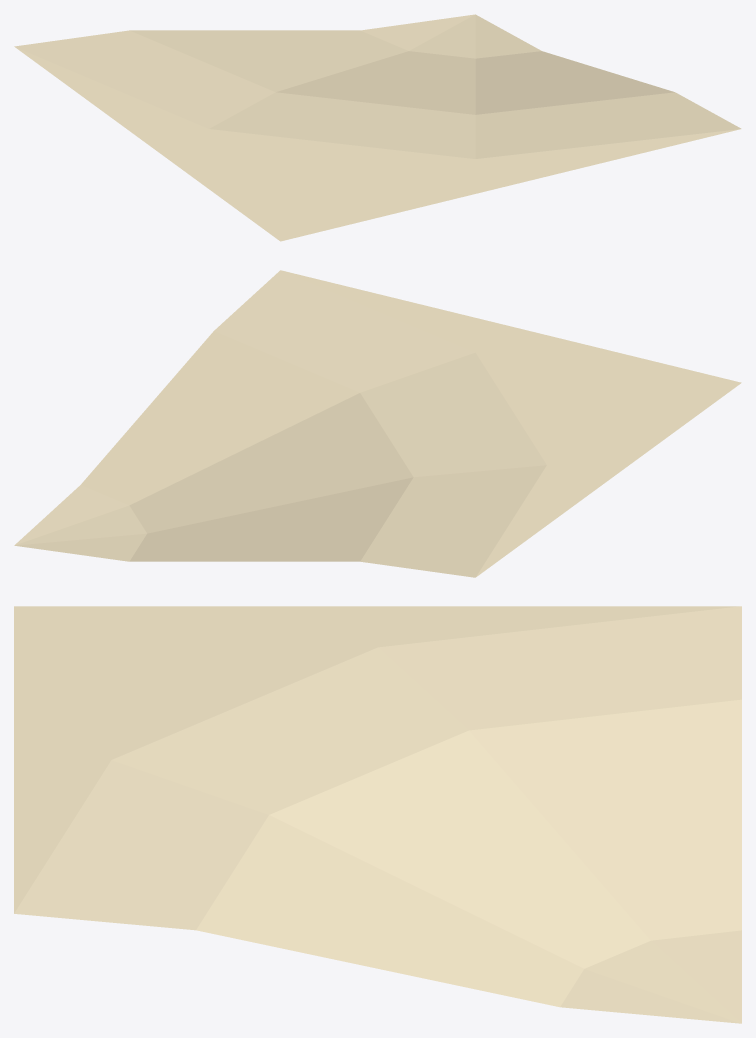
Rendered from Beach_Terrain_Sand_Corner_Inner_2x2.glb.
3 renders of one model, top to bottom at view 1: azimuth 30°, elevation 25°; view 2: azimuth 150°, elevation 25°; view 3: azimuth 270°, elevation 25°, orthographic. The views are drawn at different scales.
Visible parts, largest first — view 1: Beach_Terrain_Sand_Corner_Inner_2x2; view 2: Beach_Terrain_Sand_Corner_Inner_2x2; view 3: Beach_Terrain_Sand_Corner_Inner_2x2.
Boxes of the visible parts, bbox=[...] form: Beach_Terrain_Sand_Corner_Inner_2x2: bbox=[14, 14, 741, 241]; Beach_Terrain_Sand_Corner_Inner_2x2: bbox=[14, 270, 741, 577]; Beach_Terrain_Sand_Corner_Inner_2x2: bbox=[14, 606, 741, 1023].
Size of the model in its own units: 3 by 0.5 by 3.
